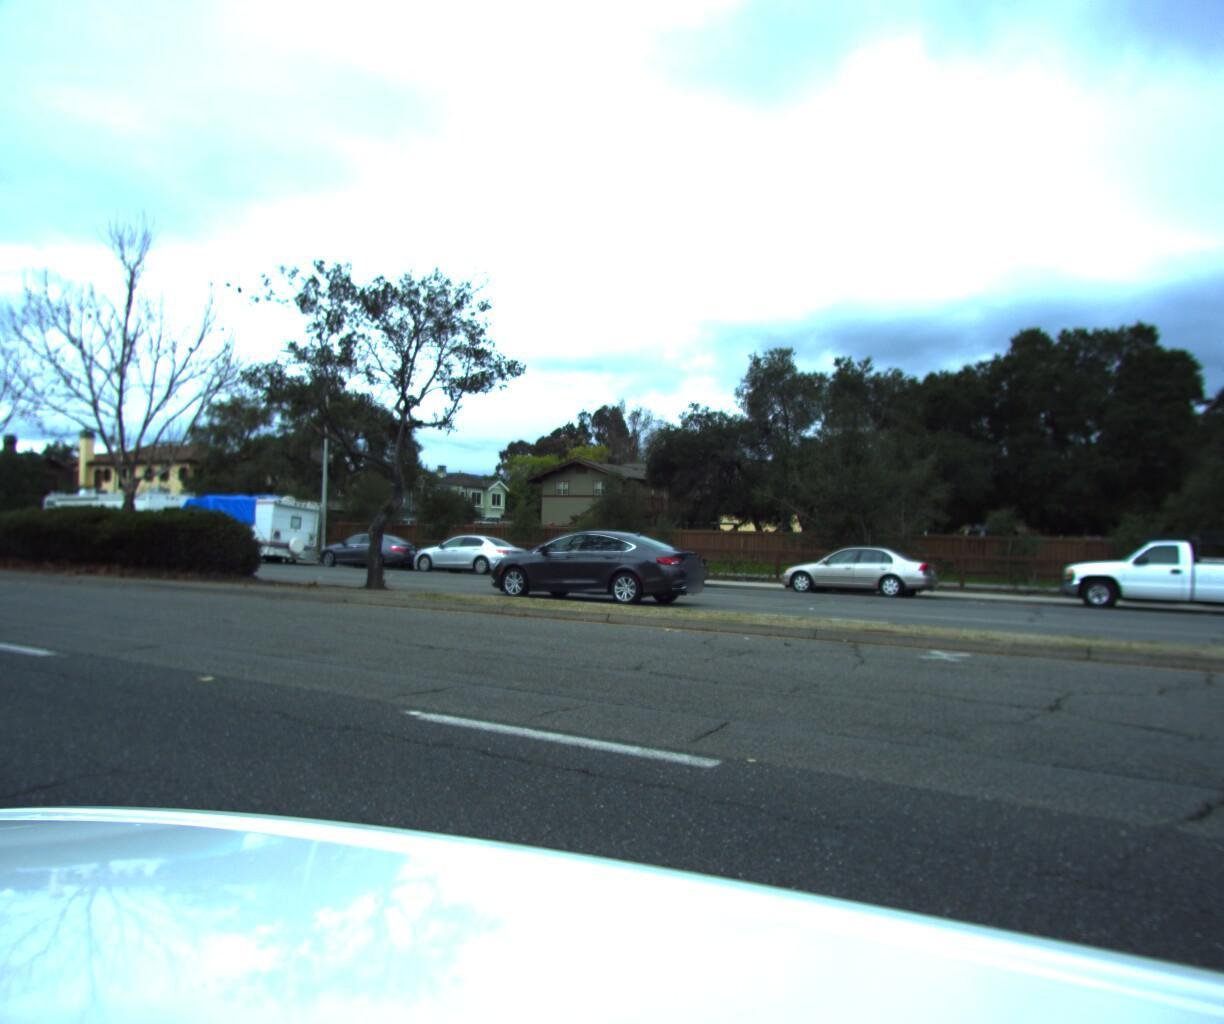car: (471, 523, 714, 611), (1054, 523, 1224, 619), (774, 538, 944, 598), (570, 535, 718, 588), (406, 528, 536, 575), (312, 529, 427, 570)
other_vehicle: (29, 479, 199, 560), (166, 488, 326, 568)
